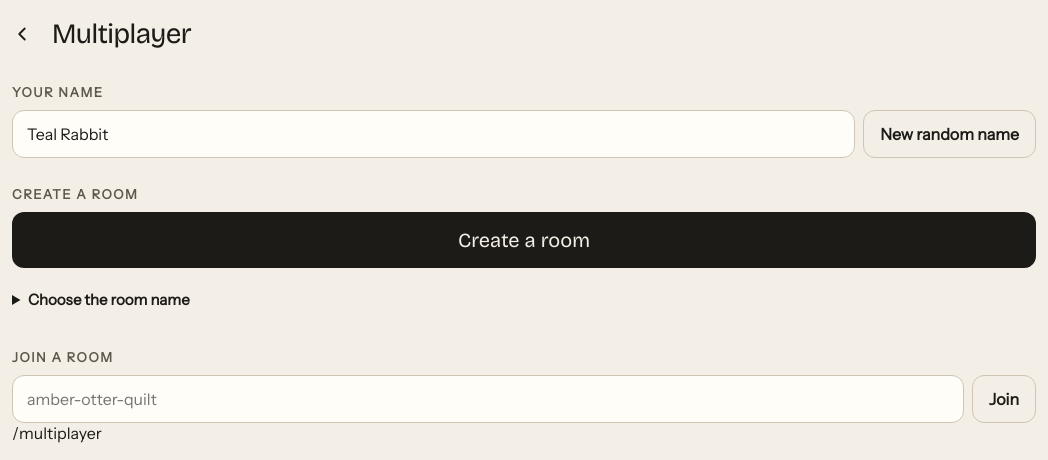
Test: the lobby › renames the player in place
The width and height of the screenshot is (1048, 460).
Click the button "Create a room" at (524, 240), box [12, 212, 1036, 268]
Wait 400 ms
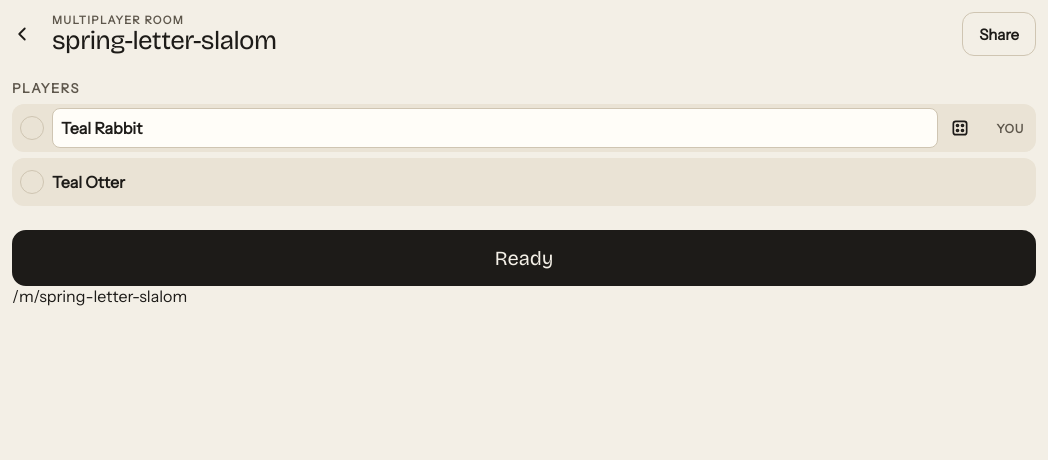
Replace the text in the field named "Your name" with "  Sam  " at (495, 128), box [52, 108, 938, 148]
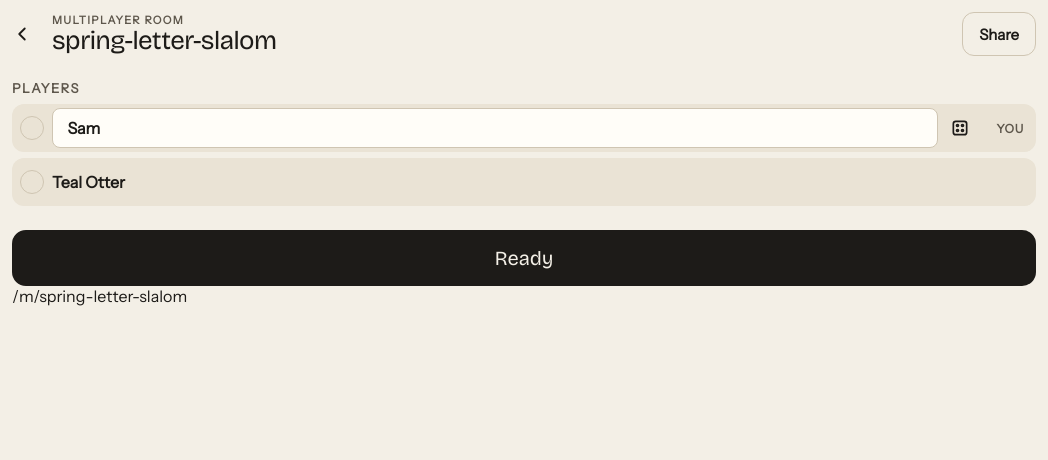
Leave the field named "Your name", box [52, 108, 938, 148]
Wait 200 ms
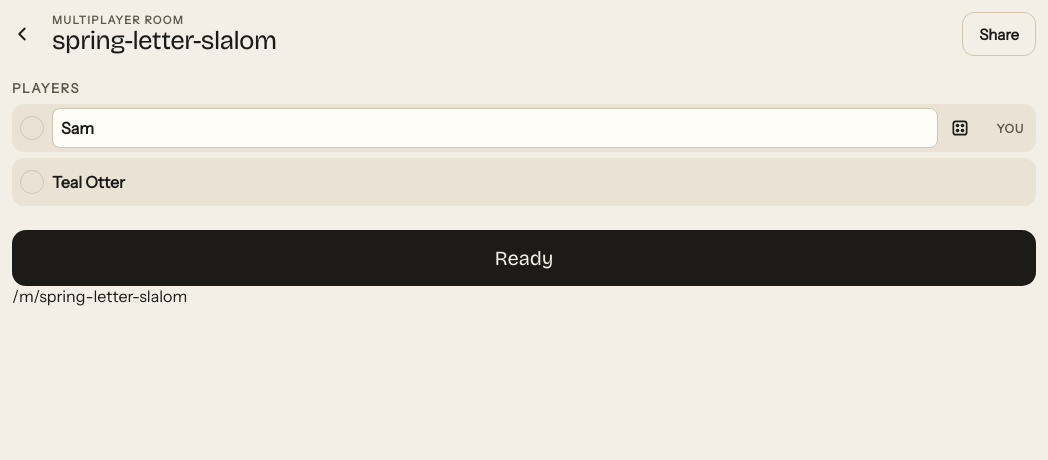
Expected: the field named "Your name" holds "Sam", [52, 108, 938, 148]
